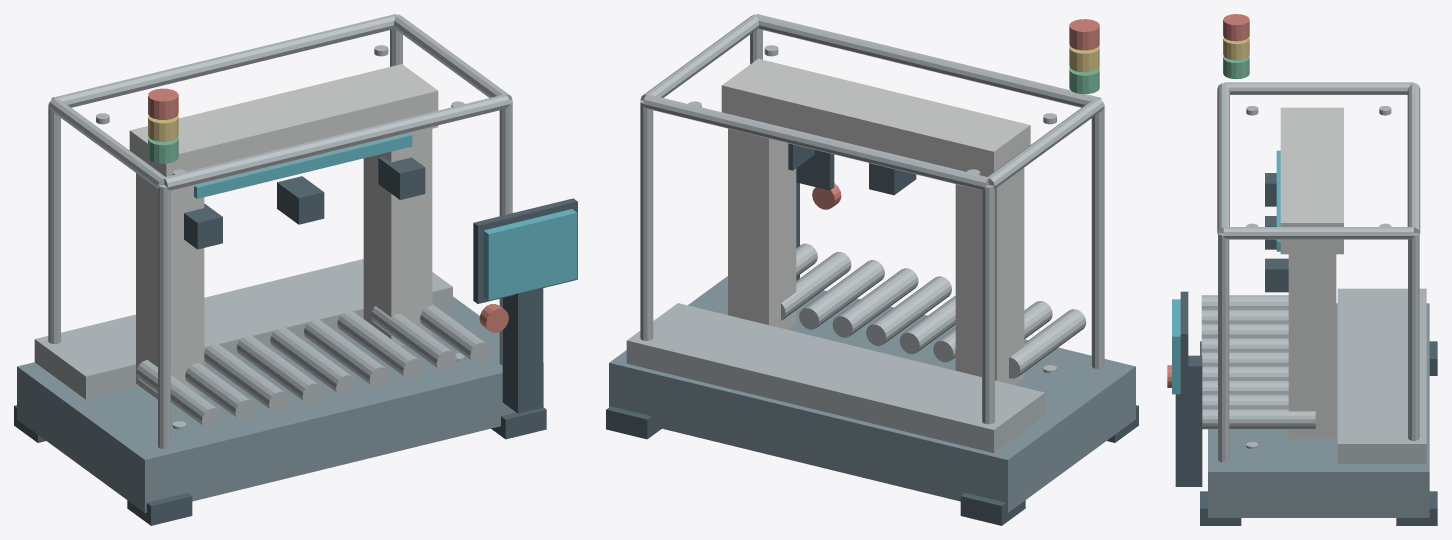
The model's file is intake.glb.
3 renders of one model, left to right at view 1: azimuth 30°, elevation 25°; view 2: azimuth 150°, elevation 25°; view 3: azimuth 270°, elevation 25°, orthographic. The views are drawn at different scales.
Parts seen in each view (by area): view 1: fabricated_base, control_plinth, scanner_bridge, scanner_column_1.8, scanner_column_-1.8, operator_hmi_screen, toprail_1.5, toprail_-1.5, operator_hmi_pedestal, frame_-2.7_1.5, optical_window, frame_-2.7_-1.5 (+22 smaller); view 2: fabricated_base, control_plinth, scanner_bridge, scanner_column_1.8, scanner_column_-1.8, toprail_-1.5, toprail_1.5, frame_-2.7_1.5, frame_2.7_-1.5, frame_-2.7_-1.5, feed_roller_4, feed_roller_6 (+14 smaller); view 3: fabricated_base, control_plinth, scanner_bridge, scanner_column_1.8, operator_hmi_pedestal, frame_2.7_1.5, crossrail_2.7, frame_2.7_-1.5, crossrail_-2.7, feed_roller_8, toprail_-1.5, toprail_1.5 (+18 smaller).
Part boxes in pixels (bbox=[...]): fabricated_base: bbox=[17, 296, 543, 512]; control_plinth: bbox=[34, 259, 452, 399]; scanner_bridge: bbox=[129, 64, 438, 192]; scanner_column_1.8: bbox=[363, 129, 432, 345]; scanner_column_-1.8: bbox=[136, 173, 204, 399]; operator_hmi_screen: bbox=[483, 209, 577, 300]; toprail_1.5: bbox=[163, 94, 509, 190]; toprail_-1.5: bbox=[51, 14, 396, 107]; operator_hmi_pedestal: bbox=[502, 287, 543, 413]; frame_-2.7_1.5: bbox=[158, 185, 170, 449]; optical_window: bbox=[194, 133, 412, 198]; frame_-2.7_-1.5: bbox=[48, 103, 60, 343]; fabricated_base: bbox=[609, 276, 1135, 512]; control_plinth: bbox=[626, 303, 1044, 452]; scanner_bridge: bbox=[721, 58, 1030, 176]; scanner_column_1.8: bbox=[728, 128, 796, 329]; scanner_column_-1.8: bbox=[955, 168, 1024, 384]; toprail_-1.5: bbox=[643, 94, 988, 190]; toprail_1.5: bbox=[756, 14, 1101, 107]; frame_-2.7_1.5: bbox=[1091, 103, 1104, 368]; frame_2.7_-1.5: bbox=[640, 100, 653, 340]; frame_-2.7_-1.5: bbox=[982, 185, 994, 424]; feed_roller_4: bbox=[866, 276, 951, 345]; feed_roller_6: bbox=[799, 260, 884, 329]; fabricated_base: bbox=[1208, 303, 1429, 517]; control_plinth: bbox=[1337, 288, 1426, 463]; scanner_bridge: bbox=[1280, 107, 1343, 254]; scanner_column_1.8: bbox=[1288, 254, 1336, 438]; operator_hmi_pedestal: bbox=[1175, 355, 1202, 486]; frame_2.7_1.5: bbox=[1218, 233, 1229, 462]; crossrail_2.7: bbox=[1223, 227, 1413, 239]; frame_2.7_-1.5: bbox=[1408, 233, 1419, 440]; crossrail_-2.7: bbox=[1223, 82, 1413, 94]; feed_roller_8: bbox=[1202, 409, 1315, 429]; toprail_-1.5: bbox=[1407, 83, 1420, 233]; toprail_1.5: bbox=[1217, 83, 1229, 233].
Size of the model in its own units: 6.59 by 6.15 by 4.27.
